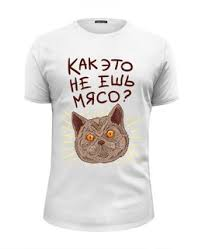cat: (66, 105, 133, 166)
